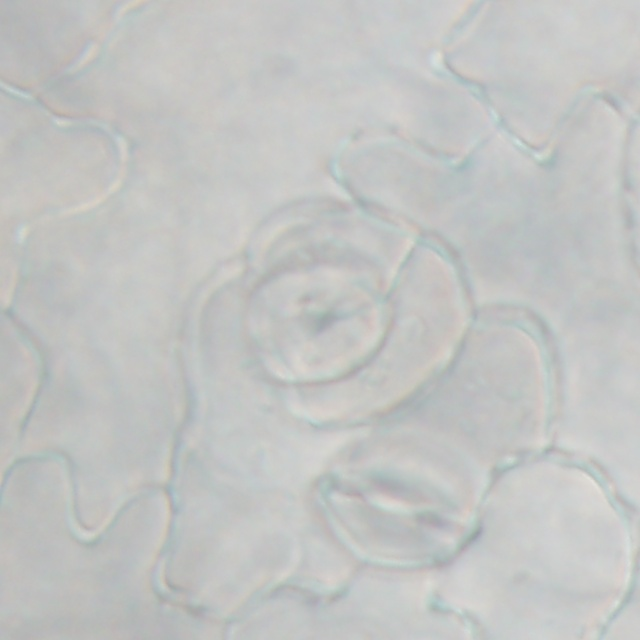center: (276, 285, 386, 342), (356, 477, 440, 518), (610, 162, 640, 165)
stomata-huw1: (317, 432, 482, 569), (246, 255, 392, 384), (625, 115, 639, 212)
